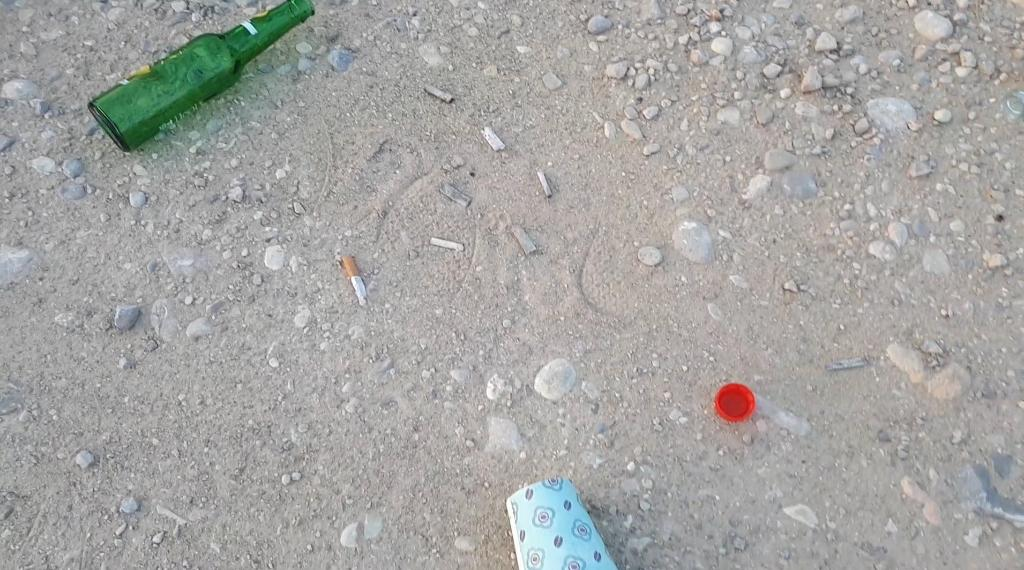garbage: (87, 0, 315, 151)
